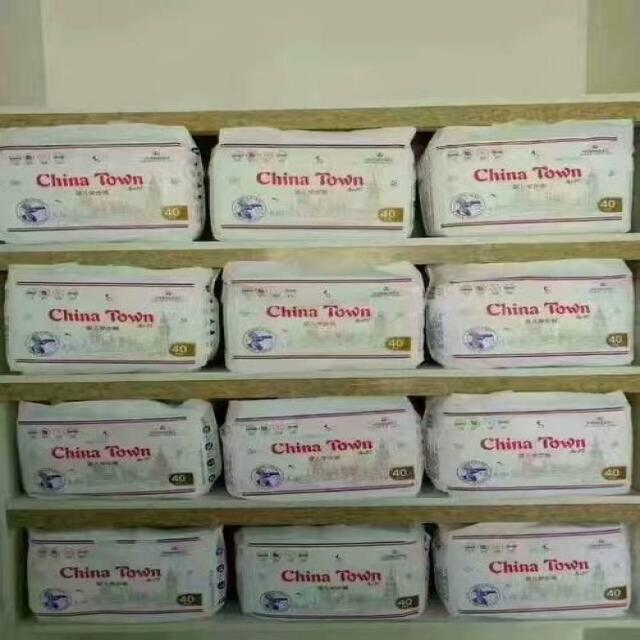box: (0, 123, 207, 241), (418, 121, 635, 233), (212, 126, 418, 242), (3, 266, 222, 373), (423, 259, 636, 366), (423, 393, 636, 494), (224, 262, 427, 367), (223, 393, 422, 498), (18, 397, 222, 499), (27, 527, 229, 620), (233, 527, 431, 621), (435, 523, 629, 616)
